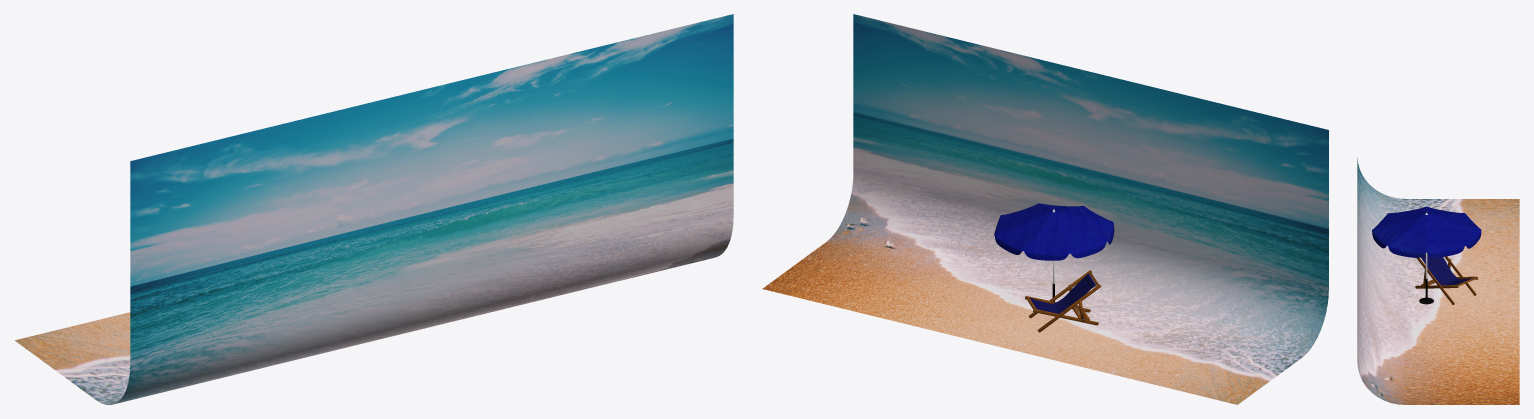
Rendered from deckchair.glb.
3 views of the same model, side by side, from view 1: azimuth 30°, elevation 25°; view 2: azimuth 150°, elevation 25°; view 3: azimuth 270°, elevation 25° (orthographic). The views are drawn at different scales.
Visible parts, largest first — view 1: Plane; view 2: Plane, Umbrella_Stand.001; view 3: Plane, Umbrella_Stand.001.
Part boxes in pixels (x1,y1,x2,y2): Plane: (15, 14, 733, 404); Plane: (762, 14, 1328, 404); Umbrella_Stand.001: (993, 203, 1114, 332); Plane: (1357, 157, 1519, 404); Umbrella_Stand.001: (1372, 206, 1481, 304).
Size of the model in its own units: 5217 by 2188 by 1736.
Materials: 7 (7 with a texture image).
